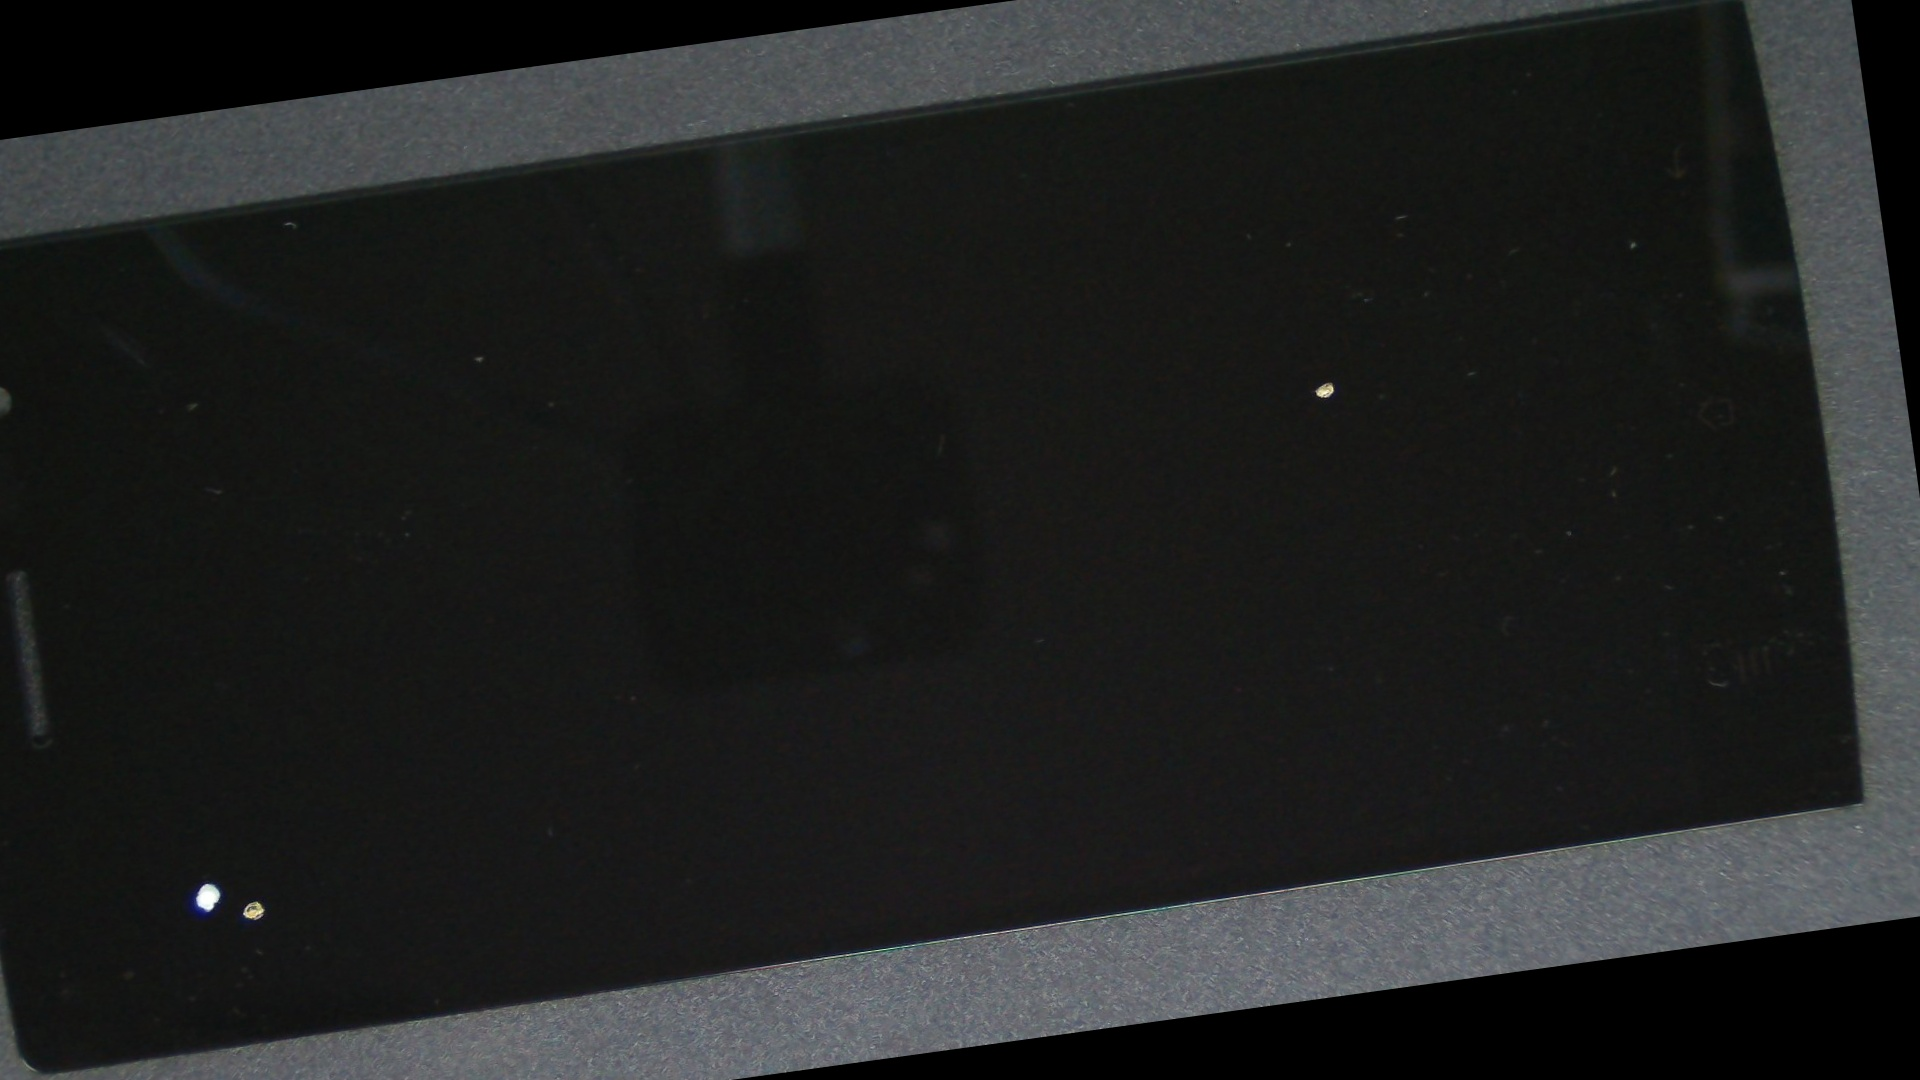oil: (549, 95, 1920, 692), (13, 484, 475, 1080), (0, 481, 409, 1080)
